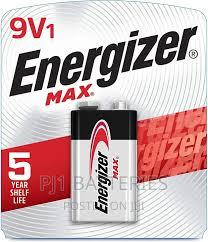9V: (65, 95, 141, 228)
